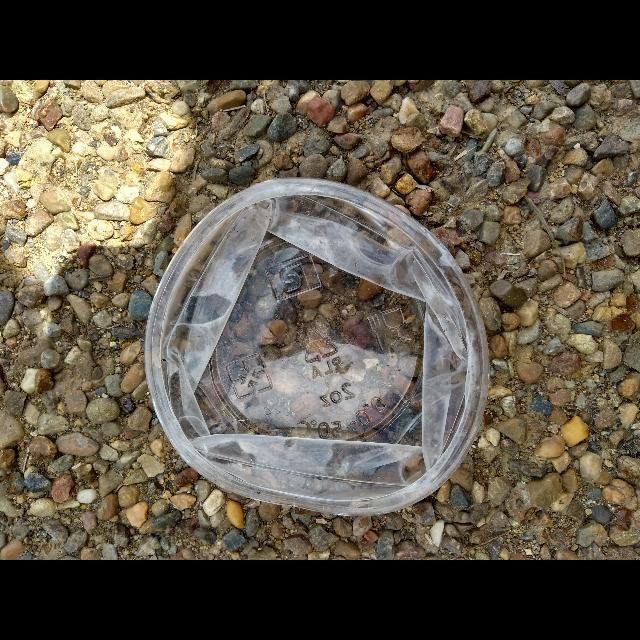Plastic: (145, 178, 489, 516)
